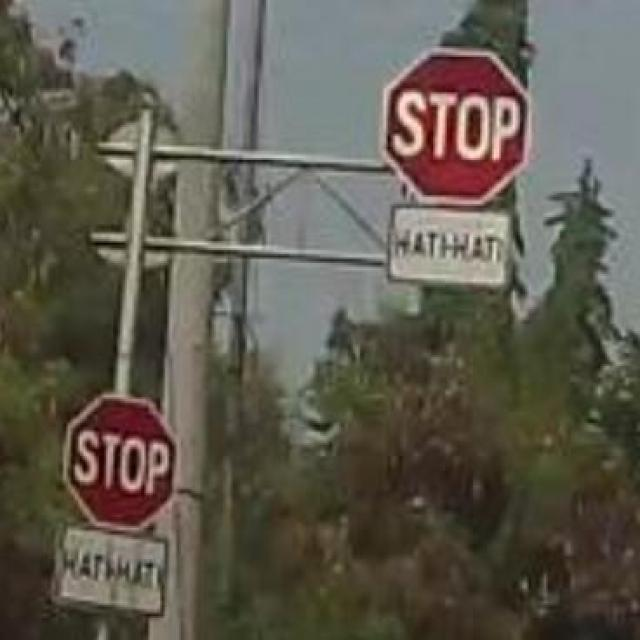traffic sign: (395, 48, 526, 208), (68, 397, 178, 526)
